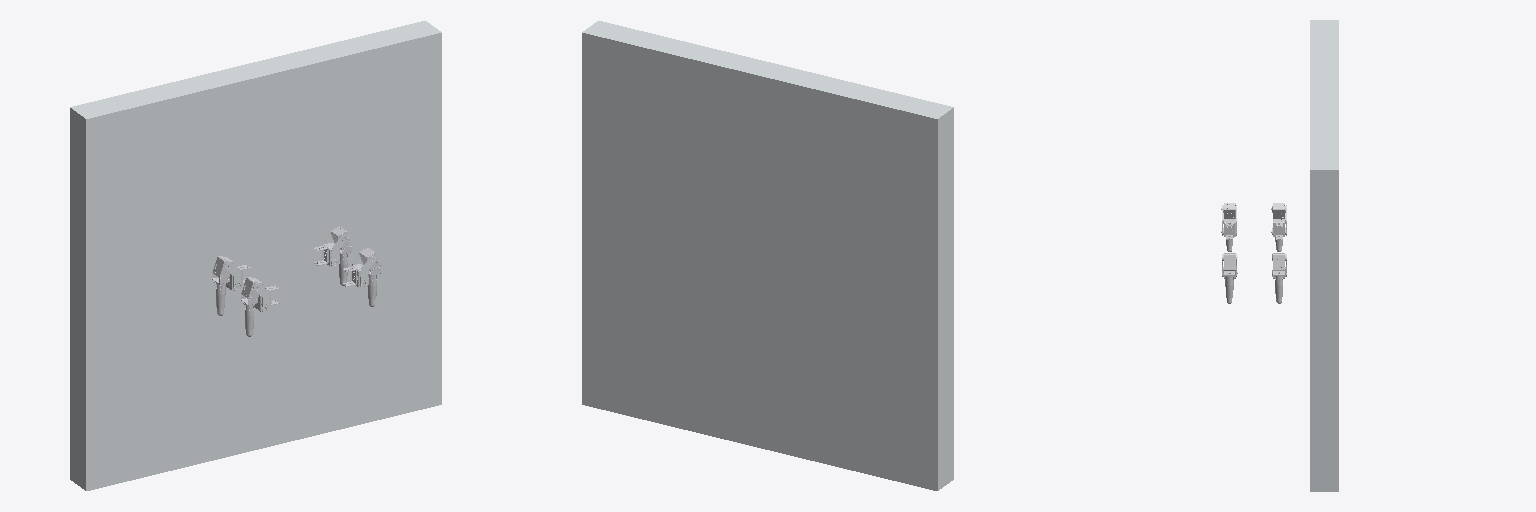
--- What the picture shows (computed from the rendered views, not written in the file) ---
The picture shows the robot from 3 angles, left to right: view 1: azimuth 30°, elevation 25°; view 2: azimuth 150°, elevation 25°; view 3: azimuth 270°, elevation 25°; orthographic projection.
Model hexapod_34 with 19 links and 18 joints (18 revolute), rooted at base_link, posed every joint at zero.
Links seen in each view (by area): view 1: base_link, l2_ft, l3_ft, r3_ft; view 2: base_link; view 3: base_link.
Boxes of the visible links, bbox=[...] form: base_link: bbox=[70, 21, 441, 490]; l2_ft: bbox=[212, 256, 233, 315]; l3_ft: bbox=[241, 277, 262, 336]; r3_ft: bbox=[359, 248, 380, 306]; base_link: bbox=[582, 21, 953, 490]; base_link: bbox=[1310, 20, 1338, 491].
Size in the robot's own frame: 1 by 0.3314 by 1 metres.
19 mesh visuals loaded from 19 distinct referenced files (19 binary STL).

The robot description file, URDF, robot "hexapod_34":
<?xml version="1.0" encoding="utf-8"?>
<!-- This URDF was automatically created by SolidWorks to URDF Exporter! Originally created by Stephen Brawner ([email redacted]) 
     Commit Version: 1.5.1-0-g916b5db  Build Version: 1.5.7152.31018
     For more information, please see http://wiki.ros.org/sw_urdf_exporter -->
<robot
  name="hexapod_34">
  <link
    name="base_link">
    <inertial>
      <origin
        xyz="-9.4215E-06 -0.15582 0.031914"
        rpy="0 0 0" />
      <mass
        value="2.1737" />
      <inertia
        ixx="0.011588"
        ixy="2.3641E-06"
        ixz="1.148E-07"
        iyy="0.0027668"
        iyz="-0.00036063"
        izz="0.013909" />
    </inertial>
    <visual>
      <origin
        xyz="0 0 0"
        rpy="0 0 0" />
      <geometry>
        <mesh
          filename="package://hexapod_34/meshes/base_link.STL" />
      </geometry>
      <material
        name="">
        <color
          rgba="0.89804 0.91765 0.92941 1" />
      </material>
    </visual>
    <collision>
      <origin
        xyz="0 0 0"
        rpy="0 0 0" />
      <geometry>
        <mesh
          filename="package://hexapod_34/meshes/base_link.STL" />
      </geometry>
    </collision>
  </link>
  <link
    name="l1_bc">
    <inertial>
      <origin
        xyz="0.0408974677788358 0.000360397905334958 -0.0041053936875537"
        rpy="0 0 0" />
      <mass
        value="0.0908665203726945" />
      <inertia
        ixx="2.4610333621706E-05"
        ixy="-1.77211021232024E-16"
        ixz="-9.96312062587052E-15"
        iyy="2.19309856894007E-05"
        iyz="-3.04314454051394E-09"
        izz="1.41574381790733E-05" />
    </inertial>
    <visual>
      <origin
        xyz="0 0 0"
        rpy="0 0 0" />
      <geometry>
        <mesh
          filename="package://hexapod_34/meshes/l1_bc.STL" />
      </geometry>
      <material
        name="">
        <color
          rgba="0.866666666666667 0.866666666666667 0.890196078431372 1" />
      </material>
    </visual>
    <collision>
      <origin
        xyz="0 0 0"
        rpy="0 0 0" />
      <geometry>
        <mesh
          filename="package://hexapod_34/meshes/l1_bc.STL" />
      </geometry>
    </collision>
  </link>
  <joint
    name="l1_bc"
    type="revolute">
    <origin
      xyz="-0.095777 -0.042 0.027"
      rpy="0 0 3.1416" />
    <parent
      link="base_link" />
    <child
      link="l1_bc" />
    <axis
      xyz="0 0 -1" />
    <limit
      lower="-3.14"
      upper="3.14"
      effort="4.2"
      velocity="1000" />
  </joint>
  <link
    name="l1_cf">
    <inertial>
      <origin
        xyz="0.0321242353170933 0.00527381764243137 -4.71844785465692E-16"
        rpy="0 0 0" />
      <mass
        value="0.0174909753555428" />
      <inertia
        ixx="9.88505951089856E-07"
        ixy="3.43048343637992E-20"
        ixz="1.97444521112806E-21"
        iyy="9.10606803448504E-06"
        iyz="-1.91471616293548E-21"
        izz="1.00829133353379E-05" />
    </inertial>
    <visual>
      <origin
        xyz="0 0 0"
        rpy="0 0 0" />
      <geometry>
        <mesh
          filename="package://hexapod_34/meshes/l1_cf.STL" />
      </geometry>
      <material
        name="">
        <color
          rgba="0.898039215686275 0.917647058823529 0.929411764705882 1" />
      </material>
    </visual>
    <collision>
      <origin
        xyz="0 0 0"
        rpy="0 0 0" />
      <geometry>
        <mesh
          filename="package://hexapod_34/meshes/l1_cf.STL" />
      </geometry>
    </collision>
  </link>
  <joint
    name="l1_cf"
    type="revolute">
    <origin
      xyz="0.042252 0 -0.016"
      rpy="1.5708 -1.1902 0" />
    <parent
      link="l1_bc" />
    <child
      link="l1_cf" />
    <axis
      xyz="0 0 1" />
    <limit
      lower="-3.14"
      upper="3.14"
      effort="4.2"
      velocity="1000" />
  </joint>
  <link
    name="l1_ft">
    <inertial>
      <origin
        xyz="-0.00724778501930912 -0.0399398480675085 -0.000236749715201295"
        rpy="0 0 0" />
      <mass
        value="0.124491134285637" />
      <inertia
        ixx="3.47414242453732E-05"
        ixy="-3.51504227653568E-06"
        ixz="-1.09625216710603E-14"
        iyy="1.76869601014899E-05"
        iyz="-2.73940141062876E-09"
        izz="3.27839507695022E-05" />
    </inertial>
    <visual>
      <origin
        xyz="0 0 0"
        rpy="0 0 0" />
      <geometry>
        <mesh
          filename="package://hexapod_34/meshes/l1_ft.STL" />
      </geometry>
      <material
        name="">
        <color
          rgba="0.866666666666667 0.866666666666667 0.890196078431372 1" />
      </material>
    </visual>
    <collision>
      <origin
        xyz="0 0 0"
        rpy="0 0 0" />
      <geometry>
        <mesh
          filename="package://hexapod_34/meshes/l1_ft.STL" />
      </geometry>
    </collision>
  </link>
  <joint
    name="l1_ft"
    type="revolute">
    <origin
      xyz="0.064248 0 0"
      rpy="0 0 -0.87166" />
    <parent
      link="l1_cf" />
    <child
      link="l1_ft" />
    <axis
      xyz="0 0 1" />
    <limit
      lower="-3.14"
      upper="3.14"
      effort="4.2"
      velocity="1000" />
  </joint>
  <link
    name="l2_bc">
    <inertial>
      <origin
        xyz="0.0409402984927644 0.000360522488460246 -0.00456980427480258"
        rpy="0 0 0" />
      <mass
        value="0.0908665203726841" />
      <inertia
        ixx="2.46103336217059E-05"
        ixy="-1.77238968103445E-16"
        ixz="-9.96283953518721E-15"
        iyy="2.19309856894001E-05"
        iyz="-3.04314454054456E-09"
        izz="1.41574381790729E-05" />
    </inertial>
    <visual>
      <origin
        xyz="0 0 0"
        rpy="0 0 0" />
      <geometry>
        <mesh
          filename="package://hexapod_34/meshes/l2_bc.STL" />
      </geometry>
      <material
        name="">
        <color
          rgba="0.866666666666667 0.866666666666667 0.890196078431372 1" />
      </material>
    </visual>
    <collision>
      <origin
        xyz="0 0 0"
        rpy="0 0 0" />
      <geometry>
        <mesh
          filename="package://hexapod_34/meshes/l2_bc.STL" />
      </geometry>
    </collision>
  </link>
  <joint
    name="l2_bc"
    type="revolute">
    <origin
      xyz="-0.095823 -0.16822 0.027"
      rpy="0 0 -3.1416" />
    <parent
      link="base_link" />
    <child
      link="l2_bc" />
    <axis
      xyz="0 0 -1" />
    <limit
      lower="-3.14"
      upper="3.14"
      effort="4.2"
      velocity="1000" />
  </joint>
  <link
    name="l2_cf">
    <inertial>
      <origin
        xyz="0.0321242353170932 0.00527381764243168 0.000223838235221544"
        rpy="0 0 0" />
      <mass
        value="0.0174909753555429" />
      <inertia
        ixx="9.88505951089862E-07"
        ixy="3.78253150508249E-20"
        ixz="3.50665522962695E-21"
        iyy="9.10606803448508E-06"
        iyz="-1.17399646383657E-20"
        izz="1.00829133353379E-05" />
    </inertial>
    <visual>
      <origin
        xyz="0 0 0"
        rpy="0 0 0" />
      <geometry>
        <mesh
          filename="package://hexapod_34/meshes/l2_cf.STL" />
      </geometry>
      <material
        name="">
        <color
          rgba="0.898039215686275 0.917647058823529 0.929411764705882 1" />
      </material>
    </visual>
    <collision>
      <origin
        xyz="0 0 0"
        rpy="0 0 0" />
      <geometry>
        <mesh
          filename="package://hexapod_34/meshes/l2_cf.STL" />
      </geometry>
    </collision>
  </link>
  <joint
    name="l2_cf"
    type="revolute">
    <origin
      xyz="0.042295 0 -0.016464"
      rpy="1.5708 -1.1902 0" />
    <parent
      link="l2_bc" />
    <child
      link="l2_cf" />
    <axis
      xyz="0 0 1" />
    <limit
      lower="-3.14"
      upper="3.14"
      effort="4.2"
      velocity="1000" />
  </joint>
  <link
    name="l2_ft">
    <inertial>
      <origin
        xyz="-0.00724778522628547 -0.0399398478310155 -1.29112315651013E-05"
        rpy="0 0 0" />
      <mass
        value="0.124491131078991" />
      <inertia
        ixx="3.47414239542602E-05"
        ixy="-3.51504215689851E-06"
        ixz="-1.30442497131198E-13"
        iyy="1.76869595880212E-05"
        iyz="-2.73928495710912E-09"
        izz="3.27839507118299E-05" />
    </inertial>
    <visual>
      <origin
        xyz="0 0 0"
        rpy="0 0 0" />
      <geometry>
        <mesh
          filename="package://hexapod_34/meshes/l2_ft.STL" />
      </geometry>
      <material
        name="">
        <color
          rgba="0.866666666666667 0.866666666666667 0.890196078431372 1" />
      </material>
    </visual>
    <collision>
      <origin
        xyz="0 0 0"
        rpy="0 0 0" />
      <geometry>
        <mesh
          filename="package://hexapod_34/meshes/l2_ft.STL" />
      </geometry>
    </collision>
  </link>
  <joint
    name="l2_ft"
    type="revolute">
    <origin
      xyz="0.064248 0 0"
      rpy="0 0 -0.84383" />
    <parent
      link="l2_cf" />
    <child
      link="l2_ft" />
    <axis
      xyz="0 0 1" />
    <limit
      lower="-3.14"
      upper="3.14"
      effort="4.2"
      velocity="1000" />
  </joint>
  <link
    name="l3_bc">
    <inertial>
      <origin
        xyz="0.0408974677788349 0.000360397905333543 -0.00414161812576602"
        rpy="0 0 0" />
      <mass
        value="0.0908665203726976" />
      <inertia
        ixx="2.46103336217061E-05"
        ixy="-1.77291710330313E-16"
        ixz="-9.96269281471182E-15"
        iyy="2.1930985689401E-05"
        iyz="-3.04314454049723E-09"
        izz="1.41574381790735E-05" />
    </inertial>
    <visual>
      <origin
        xyz="0 0 0"
        rpy="0 0 0" />
      <geometry>
        <mesh
          filename="package://hexapod_34/meshes/l3_bc.STL" />
      </geometry>
      <material
        name="">
        <color
          rgba="0.866666666666667 0.866666666666667 0.890196078431372 1" />
      </material>
    </visual>
    <collision>
      <origin
        xyz="0 0 0"
        rpy="0 0 0" />
      <geometry>
        <mesh
          filename="package://hexapod_34/meshes/l3_bc.STL" />
      </geometry>
    </collision>
  </link>
  <joint
    name="l3_bc"
    type="revolute">
    <origin
      xyz="-0.095735 -0.308 0.027"
      rpy="0 0 3.1416" />
    <parent
      link="base_link" />
    <child
      link="l3_bc" />
    <axis
      xyz="0 0 -1" />
    <limit
      lower="-3.14"
      upper="3.14"
      effort="4.2"
      velocity="1000" />
  </joint>
  <link
    name="l3_cf">
    <inertial>
      <origin
        xyz="0.0318543252756973 0.00513094221053728 -9.43689570931383E-16"
        rpy="0 0 0" />
      <mass
        value="0.0174909753555429" />
      <inertia
        ixx="9.88505951089863E-07"
        ixy="3.94664413861301E-20"
        ixz="2.71022372389802E-21"
        iyy="9.10606803448511E-06"
        iyz="-4.03459367792536E-21"
        izz="1.00829133353379E-05" />
    </inertial>
    <visual>
      <origin
        xyz="0 0 0"
        rpy="0 0 0" />
      <geometry>
        <mesh
          filename="package://hexapod_34/meshes/l3_cf.STL" />
      </geometry>
      <material
        name="">
        <color
          rgba="0.898039215686275 0.917647058823529 0.929411764705882 1" />
      </material>
    </visual>
    <collision>
      <origin
        xyz="0 0 0"
        rpy="0 0 0" />
      <geometry>
        <mesh
          filename="package://hexapod_34/meshes/l3_cf.STL" />
      </geometry>
    </collision>
  </link>
  <joint
    name="l3_cf"
    type="revolute">
    <origin
      xyz="0.042251854327631 0 -0.0160362244382158"
      rpy="1.57079632679489 -1.19023861642098 0" />
    <parent
      link="l3_bc" />
    <child
      link="l3_cf" />
    <axis
      xyz="0 0 1" />
    <limit
      lower="-3.14"
      upper="3.14"
      effort="4.2"
      velocity="1000" />
  </joint>
  <link
    name="l3_ft">
    <inertial>
      <origin
        xyz="-0.00724778522461439 -0.0399398478363762 -0.000236749466412611"
        rpy="0 0 0" />
      <mass
        value="0.124491131098686" />
      <inertia
        ixx="3.4741423952649E-05"
        ixy="-3.51504216505884E-06"
        ixz="-1.30057701040347E-13"
        iyy="1.76869595944738E-05"
        iyz="-2.73928551344034E-09"
        izz="3.27839507146297E-05" />
    </inertial>
    <visual>
      <origin
        xyz="0 0 0"
        rpy="0 0 0" />
      <geometry>
        <mesh
          filename="package://hexapod_34/meshes/l3_ft.STL" />
      </geometry>
      <material
        name="">
        <color
          rgba="0.866666666666667 0.866666666666667 0.890196078431372 1" />
      </material>
    </visual>
    <collision>
      <origin
        xyz="0 0 0"
        rpy="0 0 0" />
      <geometry>
        <mesh
          filename="package://hexapod_34/meshes/l3_ft.STL" />
      </geometry>
    </collision>
  </link>
  <joint
    name="l3_ft"
    type="revolute">
    <origin
      xyz="0.0639785605927926 -0.000142875431894507 0"
      rpy="0 0 -0.845164022564694" />
    <parent
      link="l3_cf" />
    <child
      link="l3_ft" />
    <axis
      xyz="0 0 1" />
    <limit
      lower="-3.14"
      upper="3.14"
      effort="4.2"
      velocity="1000" />
  </joint>
  <link
    name="r1_bc">
    <inertial>
      <origin
        xyz="0.0408937591235741 0.000360397475519678 -0.00328140110988891"
        rpy="0 0 0" />
      <mass
        value="0.0908665203726829" />
      <inertia
        ixx="2.46103336217058E-05"
        ixy="-1.77180600086808E-16"
        ixz="-9.96331098143311E-15"
        iyy="2.19309856893997E-05"
        iyz="-3.04314454055261E-09"
        izz="1.41574381790725E-05" />
    </inertial>
    <visual>
      <origin
        xyz="0 0 0"
        rpy="0 0 0" />
      <geometry>
        <mesh
          filename="package://hexapod_34/meshes/r1_bc.STL" />
      </geometry>
      <material
        name="">
        <color
          rgba="0.866666666666667 0.866666666666667 0.890196078431372 1" />
      </material>
    </visual>
    <collision>
      <origin
        xyz="0 0 0"
        rpy="0 0 0" />
      <geometry>
        <mesh
          filename="package://hexapod_34/meshes/r1_bc.STL" />
      </geometry>
    </collision>
  </link>
  <joint
    name="r1_bc"
    type="revolute">
    <origin
      xyz="0.09572 -0.041956 0.025712"
      rpy="0 0 0" />
    <parent
      link="base_link" />
    <child
      link="r1_bc" />
    <axis
      xyz="0 0 -1" />
    <limit
      lower="-3.14"
      upper="3.14"
      effort="4.2"
      velocity="1000" />
  </joint>
  <link
    name="r1_cf">
    <inertial>
      <origin
        xyz="0.0321242353170948 -0.00527381764243263 -1.52655665885959E-16"
        rpy="0 0 0" />
      <mass
        value="0.0174909753555429" />
      <inertia
        ixx="9.88505951089863E-07"
        ixy="3.90693946921046E-20"
        ixz="-2.93312418378156E-22"
        iyy="9.10606803448508E-06"
        iyz="-1.59970962450747E-21"
        izz="1.00829133353379E-05" />
    </inertial>
    <visual>
      <origin
        xyz="0 0 0"
        rpy="0 0 0" />
      <geometry>
        <mesh
          filename="package://hexapod_34/meshes/r1_cf.STL" />
      </geometry>
      <material
        name="">
        <color
          rgba="0.898039215686275 0.917647058823529 0.929411764705882 1" />
      </material>
    </visual>
    <collision>
      <origin
        xyz="0 0 0"
        rpy="0 0 0" />
      <geometry>
        <mesh
          filename="package://hexapod_34/meshes/r1_cf.STL" />
      </geometry>
    </collision>
  </link>
  <joint
    name="r1_cf"
    type="revolute">
    <origin
      xyz="0.042248145672369 0 -0.0151760074223378"
      rpy="-1.5707963267949 -1.19023861642097 0" />
    <parent
      link="r1_bc" />
    <child
      link="r1_cf" />
    <axis
      xyz="0 0 1" />
    <limit
      lower="-3.14"
      upper="3.14"
      effort="4.2"
      velocity="1000" />
  </joint>
  <link
    name="r1_ft">
    <inertial>
      <origin
        xyz="-0.00724778521943278 0.0399398478531898 0.000236749465249139"
        rpy="0 0 0" />
      <mass
        value="0.124491131160062" />
      <inertia
        ixx="3.47414239473205E-05"
        ixy="3.5150421903404E-06"
        ixz="1.2887197774374E-13"
        iyy="1.76869596146004E-05"
        iyz="-2.73928723818853E-09"
        izz="3.27839507230772E-05" />
    </inertial>
    <visual>
      <origin
        xyz="0 0 0"
        rpy="0 0 0" />
      <geometry>
        <mesh
          filename="package://hexapod_34/meshes/r1_ft.STL" />
      </geometry>
      <material
        name="">
        <color
          rgba="0.866666666666667 0.866666666666667 0.890196078431372 1" />
      </material>
    </visual>
    <collision>
      <origin
        xyz="0 0 0"
        rpy="0 0 0" />
      <geometry>
        <mesh
          filename="package://hexapod_34/meshes/r1_ft.STL" />
      </geometry>
    </collision>
  </link>
  <joint
    name="r1_ft"
    type="revolute">
    <origin
      xyz="0.0642484706341888 0 0"
      rpy="0 0 0.849312163009782" />
    <parent
      link="r1_cf" />
    <child
      link="r1_ft" />
    <axis
      xyz="0 0 1" />
    <limit
      lower="-3.14"
      upper="3.14"
      effort="4.2"
      velocity="1000" />
  </joint>
  <link
    name="r2_bc">
    <inertial>
      <origin
        xyz="0.040894380830143 0.000353802283617918 -0.00410539368755084"
        rpy="0 0 0" />
      <mass
        value="0.0908665203726858" />
      <inertia
        ixx="2.46103335520156E-05"
        ixy="-4.32116340430572E-10"
        ixz="-5.00751310363989E-13"
        iyy="2.19309857590904E-05"
        iyz="-3.04314449940453E-09"
        izz="1.41574381790728E-05" />
    </inertial>
    <visual>
      <origin
        xyz="0 0 0"
        rpy="0 0 0" />
      <geometry>
        <mesh
          filename="package://hexapod_34/meshes/r2_bc.STL" />
      </geometry>
      <material
        name="">
        <color
          rgba="0.866666666666667 0.866666666666667 0.890196078431372 1" />
      </material>
    </visual>
    <collision>
      <origin
        xyz="0 0 0"
        rpy="0 0 0" />
      <geometry>
        <mesh
          filename="package://hexapod_34/meshes/r2_bc.STL" />
      </geometry>
    </collision>
  </link>
  <joint
    name="r2_bc"
    type="revolute">
    <origin
      xyz="0.095741 -0.16796 0.027104"
      rpy="0 0 0.00016128" />
    <parent
      link="base_link" />
    <child
      link="r2_bc" />
    <axis
      xyz="0 0 -1" />
    <limit
      lower="-3.14"
      upper="3.14"
      effort="4.2"
      velocity="1000" />
  </joint>
  <link
    name="r2_cf">
    <inertial>
      <origin
        xyz="0.0321242353170947 -0.00527381764243252 -4.06229553788634E-05"
        rpy="0 0 0" />
      <mass
        value="0.0174909753555428" />
      <inertia
        ixx="9.88505951089861E-07"
        ixy="4.08164001458166E-20"
        ixz="1.65876032058165E-21"
        iyy="9.10606803448506E-06"
        iyz="2.30509529757069E-22"
        izz="1.00829133353379E-05" />
    </inertial>
    <visual>
      <origin
        xyz="0 0 0"
        rpy="0 0 0" />
      <geometry>
        <mesh
          filename="package://hexapod_34/meshes/r2_cf.STL" />
      </geometry>
      <material
        name="">
        <color
          rgba="0.898039215686275 0.917647058823529 0.929411764705882 1" />
      </material>
    </visual>
    <collision>
      <origin
        xyz="0 0 0"
        rpy="0 0 0" />
      <geometry>
        <mesh
          filename="package://hexapod_34/meshes/r2_cf.STL" />
      </geometry>
    </collision>
  </link>
  <joint
    name="r2_cf"
    type="revolute">
    <origin
      xyz="0.042248709237604 0 -0.0159999999999999"
      rpy="-1.57079632679491 -1.19023861642097 -0.000161276617151749" />
    <parent
      link="r2_bc" />
    <child
      link="r2_cf" />
    <axis
      xyz="0 0 1" />
    <limit
      lower="-3.14"
      upper="3.14"
      effort="4.2"
      velocity="1000" />
  </joint>
  <link
    name="r2_ft">
    <inertial>
      <origin
        xyz="-0.0072477852114332 0.0399398478988357 0.000236749466170853"
        rpy="0 0 0" />
      <mass
        value="0.124491131273361" />
      <inertia
        ixx="3.47414239116865E-05"
        ixy="3.5150422362736E-06"
        ixz="1.2522440297715E-13"
        iyy="1.76869596526936E-05"
        iyz="-2.73929064503844E-09"
        izz="3.27839507159897E-05" />
    </inertial>
    <visual>
      <origin
        xyz="0 0 0"
        rpy="0 0 0" />
      <geometry>
        <mesh
          filename="package://hexapod_34/meshes/r2_ft.STL" />
      </geometry>
      <material
        name="">
        <color
          rgba="0.866666666666667 0.866666666666667 0.890196078431372 1" />
      </material>
    </visual>
    <collision>
      <origin
        xyz="0 0 0"
        rpy="0 0 0" />
      <geometry>
        <mesh
          filename="package://hexapod_34/meshes/r2_ft.STL" />
      </geometry>
    </collision>
  </link>
  <joint
    name="r2_ft"
    type="revolute">
    <origin
      xyz="0.0642484706341889 0 -4.06229553796666E-05"
      rpy="0 0 0.858119138737752" />
    <parent
      link="r2_cf" />
    <child
      link="r2_ft" />
    <axis
      xyz="0 0 1" />
    <limit
      lower="-3.14"
      upper="3.14"
      effort="4.2"
      velocity="1000" />
  </joint>
  <link
    name="r3_bc">
    <inertial>
    <origin
        xyz="0.0408974677788349 0.000360397905333543 -0.00414161812576602"
        rpy="0 0 0" />
      <mass
        value="0.0908665203726976" />
      <inertia
        ixx="2.46103336217061E-05"
        ixy="-1.77291710330313E-16"
        ixz="-9.96269281471182E-15"
        iyy="2.1930985689401E-05"
        iyz="-3.04314454049723E-09"
        izz="1.41574381790735E-05" />
    </inertial>
    <visual>
      <origin
        xyz="0 0 0"
        rpy="0 0 0" />
      <geometry>
        <mesh
          filename="package://hexapod_34/meshes/r3_bc.STL" />
      </geometry>
      <material
        name="">
        <color
          rgba="0.866666666666667 0.866666666666667 0.890196078431372 1" />
      </material>
    </visual>
    <collision>
      <origin
        xyz="0 0 0"
        rpy="0 0 0" />
      <geometry>
        <mesh
          filename="package://hexapod_34/meshes/r3_bc.STL" />
      </geometry>
    </collision>
  </link>
  <joint
    name="r3_bc"
    type="revolute">
    <origin
      xyz="0.0957633642839824 -0.307958787052724 0.0271043644611199"
      rpy="0 0 0" />
    <parent
      link="base_link" />
    <child
      link="r3_bc" />
    <axis
      xyz="0 0 -1" />
    <limit
      lower="-3.14"
      upper="3.14"
      effort="4.2"
      velocity="1000" />
  </joint>
  <link
    name="r3_cf">
    <inertial>
      <origin
        xyz="0.0321242353170945 -0.00527381764243273 1.94289029309402E-16"
        rpy="0 0 0" />
      <mass
        value="0.0174909753555428" />
      <inertia
        ixx="9.88505951089859E-07"
        ixy="4.35157317397384E-20"
        ixz="1.36837806860005E-21"
        iyy="9.10606803448506E-06"
        iyz="6.68465332519415E-22"
        izz="1.00829133353379E-05" />
    </inertial>
    <visual>
      <origin
        xyz="0 0 0"
        rpy="0 0 0" />
      <geometry>
        <mesh
          filename="package://hexapod_34/meshes/r3_cf.STL" />
      </geometry>
      <material
        name="">
        <color
          rgba="0.898039215686275 0.917647058823529 0.929411764705882 1" />
      </material>
    </visual>
    <collision>
      <origin
        xyz="0 0 0"
        rpy="0 0 0" />
      <geometry>
        <mesh
          filename="package://hexapod_34/meshes/r3_cf.STL" />
      </geometry>
    </collision>
  </link>
  <joint
    name="r3_cf"
    type="revolute">
    <origin
      xyz="0.042214 0 -0.016569"
      rpy="-1.5708 -1.1902 -5.9573E-05" />
    <parent
      link="r3_bc" />
    <child
      link="r3_cf" />
    <axis
      xyz="0 0 1" />
    <limit
      lower="-3.14"
      upper="3.14"
      effort="4.2"
      velocity="1000" />
  </joint>
  <link
    name="r3_ft">
    <inertial>
      <origin
        xyz="-0.00724778521592595 0.0399398525297278 0.000235962574715309"
        rpy="0 0 0" />
      <mass
        value="0.124491131210926" />
      <inertia
        ixx="3.47414239320469E-05"
        ixy="3.51504220991226E-06"
        ixz="-6.91255689010666E-11"
        iyy="1.76869595293637E-05"
        iyz="-2.44184939460932E-09"
        izz="3.27839508222651E-05" />
    </inertial>
    <visual>
      <origin
        xyz="0 0 0"
        rpy="0 0 0" />
      <geometry>
        <mesh
          filename="package://hexapod_34/meshes/r3_ft.STL" />
      </geometry>
      <material
        name="">
        <color
          rgba="0.866666666666667 0.866666666666667 0.890196078431372 1" />
      </material>
    </visual>
    <collision>
      <origin
        xyz="0 0 0"
        rpy="0 0 0" />
      <geometry>
        <mesh
          filename="package://hexapod_34/meshes/r3_ft.STL" />
      </geometry>
    </collision>
  </link>
  <joint
    name="r3_ft"
    type="revolute">
    <origin
      xyz="0.064248 0 0"
      rpy="1.9702E-05 0 0.85317" />
    <parent
      link="r3_cf" />
    <child
      link="r3_ft" />
    <axis
      xyz="0 1.9702E-05 1" />
    <limit
      lower="-3.14"
      upper="3.14"
      effort="4.2"
      velocity="1000" />
  </joint>
</robot>
